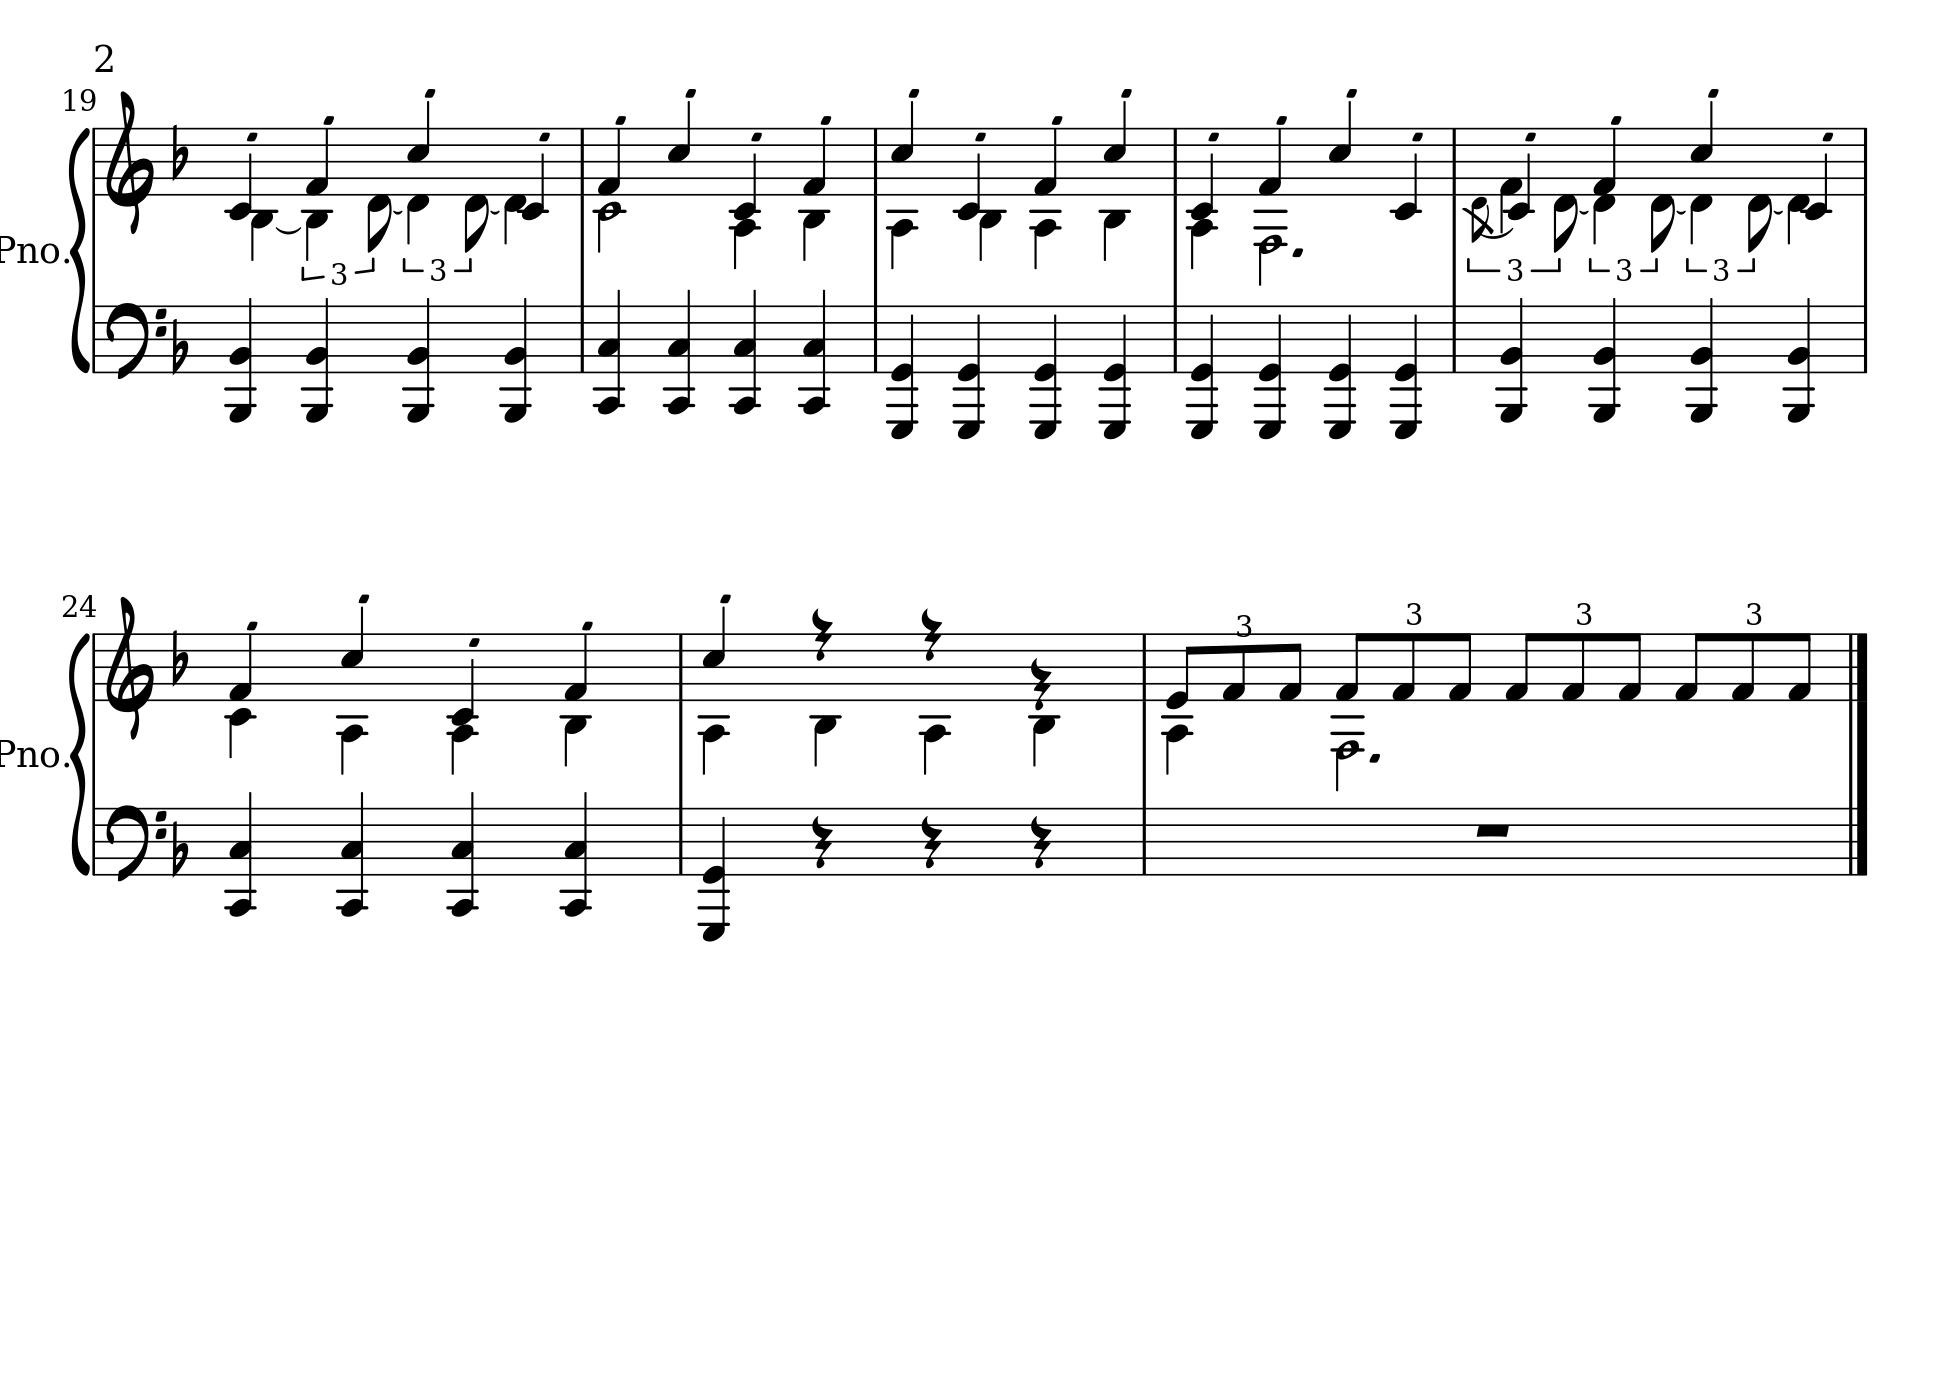1: (61, 85, 76, 112)
2: (91, 40, 114, 72), (60, 592, 78, 619)
3: (1575, 600, 1593, 625), (1405, 600, 1422, 625), (1746, 600, 1762, 625), (1236, 612, 1252, 637)
4: (78, 592, 97, 619)
4_-1: (502, 127, 526, 247), (1786, 127, 1809, 244)
4_-1_1: (1590, 126, 1617, 250)
4_-1_5: (403, 103, 435, 247), (1689, 97, 1716, 243)
4_-2: (1392, 124, 1422, 223), (225, 126, 253, 222), (954, 127, 982, 223), (522, 127, 549, 225), (1807, 127, 1830, 222)
4_-2_1: (228, 631, 258, 759)
4_-3_1: (799, 126, 832, 261), (559, 631, 589, 769), (301, 126, 331, 259)
4_-3_5: (1102, 100, 1134, 267)
4_-4_-2: (1185, 124, 1221, 271), (727, 124, 763, 265), (445, 628, 480, 772)
4_-4_1: (1032, 126, 1062, 268)
4_-4_3: (556, 792, 594, 919), (334, 790, 372, 918), (222, 789, 259, 916), (447, 790, 484, 916), (727, 288, 763, 415), (661, 289, 697, 415), (589, 289, 625, 415), (796, 289, 831, 417)
4_-4_5: (889, 100, 921, 277), (339, 604, 370, 775), (700, 606, 730, 775)
4_-5_2: (501, 295, 535, 424), (402, 295, 436, 423), (301, 295, 336, 423), (1686, 295, 1719, 424), (1590, 295, 1623, 424), (223, 294, 256, 421), (1783, 297, 1815, 427), (1495, 292, 1527, 423)
4_-7_0: (697, 807, 732, 942), (1390, 301, 1423, 439), (1324, 301, 1357, 439), (1255, 301, 1288, 439), (1188, 301, 1221, 439), (1098, 301, 1131, 439), (1029, 301, 1062, 439), (954, 301, 987, 439), (886, 301, 919, 439)
4_1: (1257, 124, 1285, 196), (598, 124, 624, 198)
4_5: (666, 100, 691, 196), (1327, 100, 1353, 196)
8_-1: (1551, 124, 1579, 253), (463, 124, 490, 252), (1648, 124, 1675, 252), (1746, 124, 1773, 250), (366, 124, 391, 253)
8_0: (1167, 631, 1198, 709)
8_1: (1332, 631, 1368, 703), (1503, 630, 1536, 703), (1674, 630, 1707, 703), (1389, 630, 1417, 703), (1729, 630, 1758, 703), (1276, 631, 1305, 703), (1446, 631, 1474, 703), (1560, 630, 1587, 703), (1221, 631, 1248, 703), (1617, 631, 1644, 703), (1786, 631, 1813, 703)
9: (78, 85, 96, 112)
Acciaccature: (1467, 127, 1497, 241)
Brace: (70, 121, 91, 376), (70, 628, 91, 877)
Fclef: (103, 300, 166, 382), (103, 801, 166, 883)
Final_barline: (1845, 631, 1872, 699), (1843, 807, 1869, 874)
Flat: (168, 627, 192, 688), (169, 315, 192, 376), (169, 817, 192, 879), (168, 121, 190, 181)
Gclef: (103, 88, 154, 235), (103, 594, 154, 739)
Pno: (1, 735, 60, 772), (1, 231, 58, 268)
Rests1: (1471, 819, 1515, 841)
Rests4: (808, 606, 834, 664), (918, 606, 943, 663), (808, 814, 834, 871), (919, 813, 943, 871), (1029, 813, 1053, 871), (1029, 655, 1054, 709)
Single_barline: (574, 127, 591, 196), (1446, 127, 1462, 195), (1167, 304, 1183, 372), (1446, 304, 1462, 372), (1137, 633, 1153, 700), (672, 807, 688, 874), (1857, 127, 1873, 193), (1857, 306, 1873, 372), (868, 127, 883, 195), (574, 304, 589, 372), (868, 304, 883, 372), (1137, 807, 1152, 874), (1168, 127, 1183, 193), (673, 634, 688, 699), (88, 127, 102, 196), (88, 633, 102, 700), (88, 307, 102, 370), (87, 808, 100, 871)
Slur: (273, 223, 301, 234)
dot: (1290, 243, 1305, 259), (1368, 748, 1383, 765)
